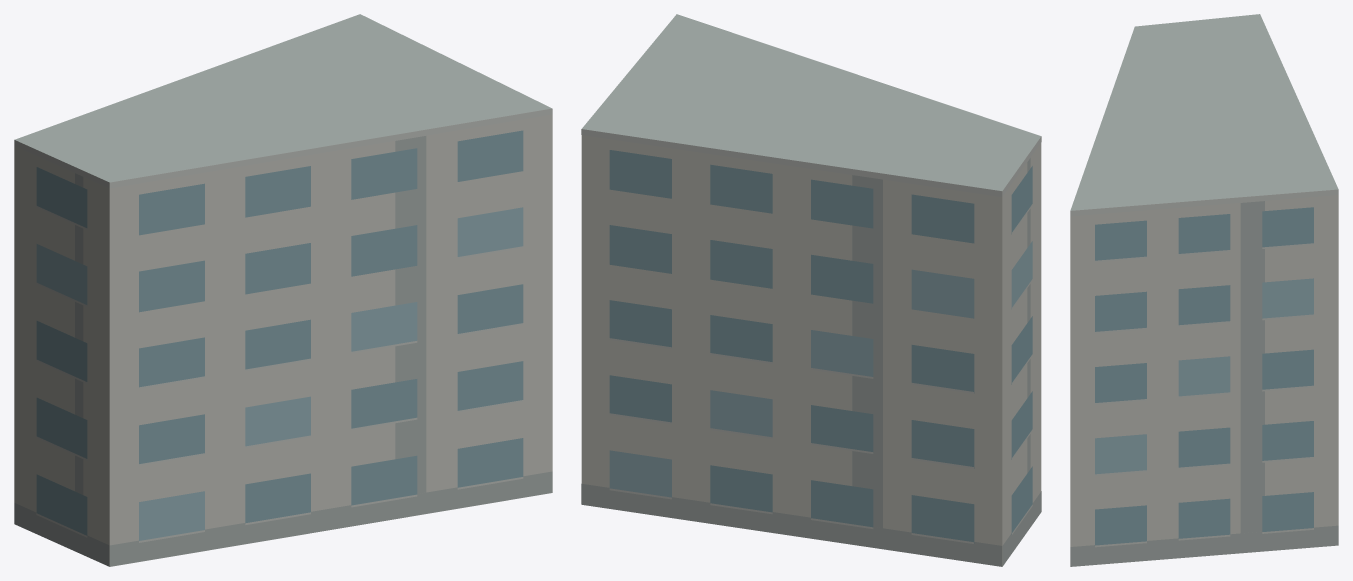
The model's file is residential-95abc9bd-7854-4692-9768-7544158e84b3.glb.
The picture shows the model from 3 angles, left to right: view 1: azimuth 30°, elevation 25°; view 2: azimuth 150°, elevation 25°; view 3: azimuth 270°, elevation 25°; orthographic projection. The views are drawn at different scales.
Visible parts, largest first — view 1: residential-95abc9bd-7854-4692-9768-7544158e84b3.tmp; view 2: residential-95abc9bd-7854-4692-9768-7544158e84b3.tmp; view 3: residential-95abc9bd-7854-4692-9768-7544158e84b3.tmp.
Boxes of the visible parts, <box> form: residential-95abc9bd-7854-4692-9768-7544158e84b3.tmp: <box>14,14,552,566</box>; residential-95abc9bd-7854-4692-9768-7544158e84b3.tmp: <box>581,14,1041,566</box>; residential-95abc9bd-7854-4692-9768-7544158e84b3.tmp: <box>1070,14,1338,566</box>.
Size of the model in its own units: 18.1 by 15.25 by 10.43.
